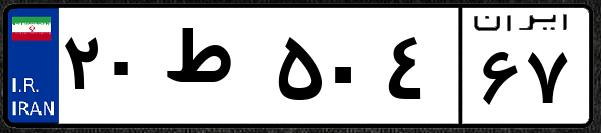0: (330, 28, 385, 110), (110, 28, 158, 98)
2: (57, 26, 110, 100)
4: (385, 28, 445, 110)
5: (270, 28, 330, 110)
6: (475, 38, 525, 113)
7: (525, 38, 570, 115)
ط: (158, 20, 270, 120)
